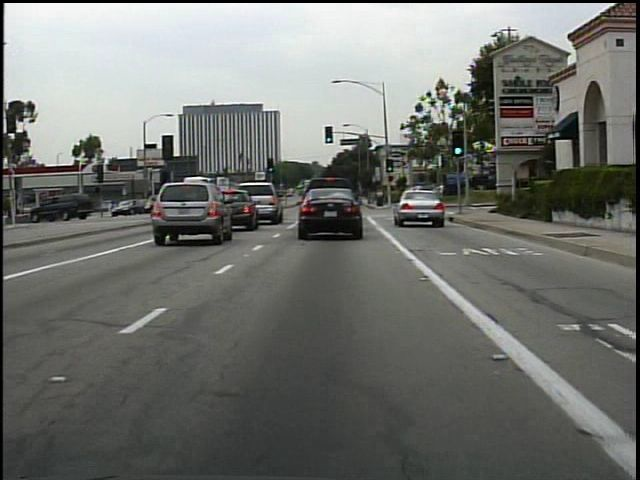person: (373, 186, 388, 210)
